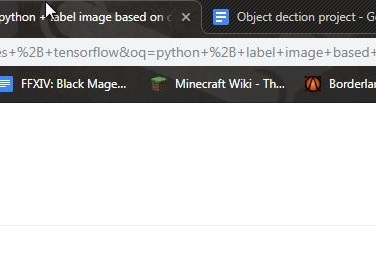cursor: (44, 1, 57, 21)
